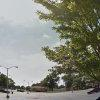Tree: (37, 1, 100, 82)
